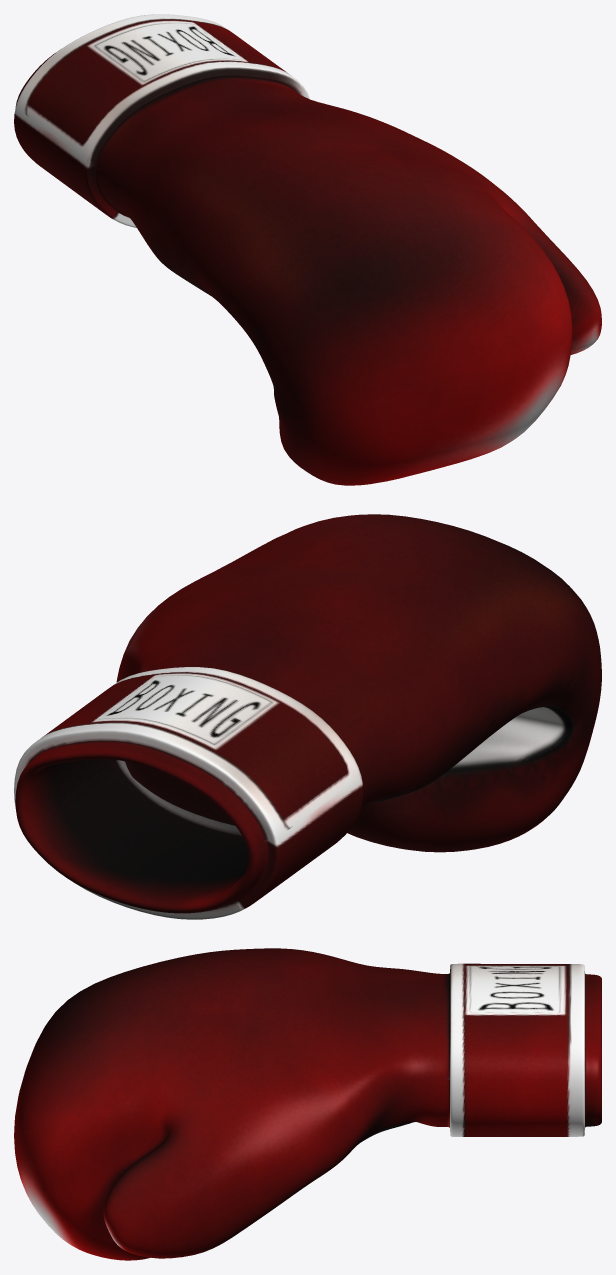
Rendered from glove2.glb.
3 renders of one model, top to bottom at view 1: azimuth 30°, elevation 25°; view 2: azimuth 150°, elevation 25°; view 3: azimuth 270°, elevation 25°, orthographic. The views are drawn at different scales.
Visible parts, largest first — view 1: 10493_Leather_Boxing_Gloves_V1_L3; view 2: 10493_Leather_Boxing_Gloves_V1_L3; view 3: 10493_Leather_Boxing_Gloves_V1_L3.
Boxes of the visible parts, x1,y1,x2,y2 form: 10493_Leather_Boxing_Gloves_V1_L3: (14,14,601,485); 10493_Leather_Boxing_Gloves_V1_L3: (14,514,601,919); 10493_Leather_Boxing_Gloves_V1_L3: (14,948,601,1260).
Size of the model in its own units: 14.53 by 10.92 by 23.02.
Materials: 1 (1 with a texture image).
